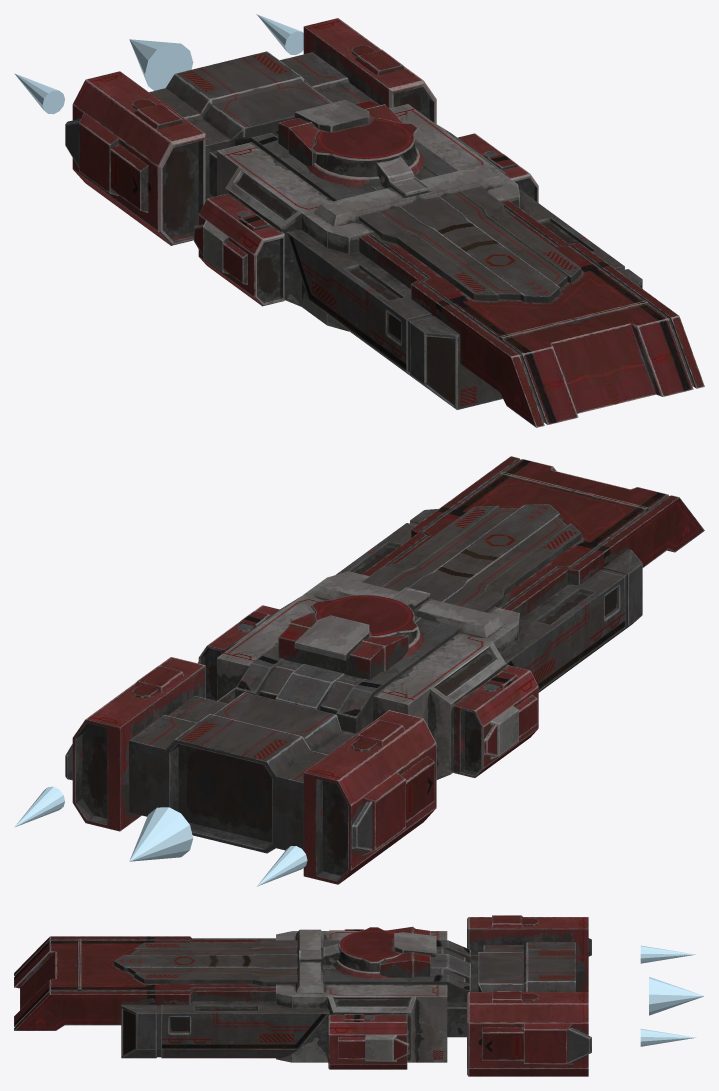
Rendered from acorazado_inv.glb.
The picture shows the model from 3 angles, top to bottom: view 1: azimuth 30°, elevation 25°; view 2: azimuth 150°, elevation 25°; view 3: azimuth 270°, elevation 25°; orthographic projection. The views are drawn at different scales.
Parts seen in each view (by area): view 1: Imperial, Exhaust0, Exhaust2, Exhaust1; view 2: Imperial, Exhaust0, Exhaust2, Exhaust1; view 3: Imperial, Exhaust0, Exhaust1, Exhaust2.
Part boxes in pixels (box(x1,y1,x2,y2)): Imperial: box(65, 18, 704, 427); Exhaust0: box(129, 39, 193, 90); Exhaust2: box(14, 73, 64, 114); Exhaust1: box(256, 14, 303, 54); Imperial: box(65, 456, 704, 884); Exhaust0: box(129, 807, 193, 861); Exhaust2: box(256, 846, 307, 886); Exhaust1: box(14, 786, 64, 827); Imperial: box(14, 915, 591, 1076); Exhaust0: box(649, 977, 704, 1015); Exhaust1: box(640, 1028, 695, 1046); Exhaust2: box(640, 945, 695, 963).
Size of the model in its own units: 7.73 by 3.3 by 22.18.
2 materials, 1 textured.
